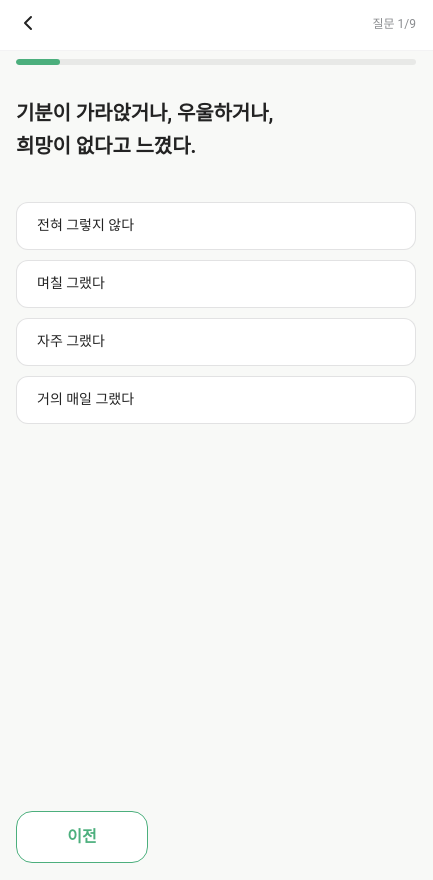
Test: Quiz › PHQ-9 선택 시 250ms 후 자동 진행
Step 1. Click the radio button labelled "며칠 그랬다" → (71,283), box [16, 260, 416, 308]
Wait 260 ms
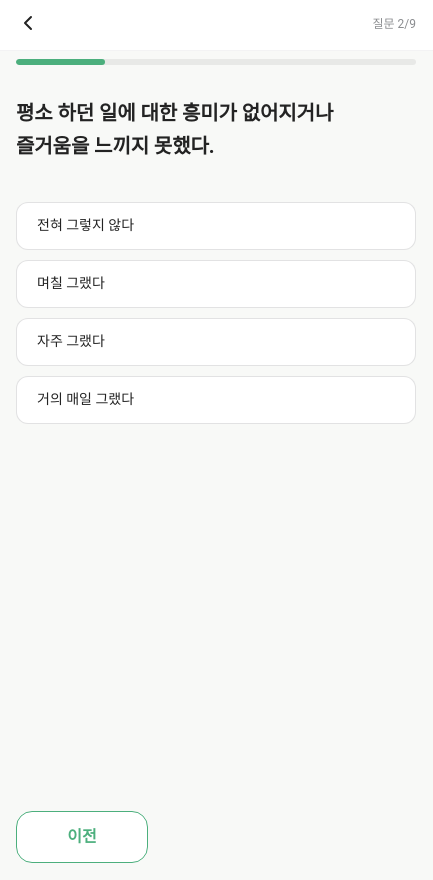
Expected: the text "질문 2/9" is shown, [372, 16, 416, 30]
